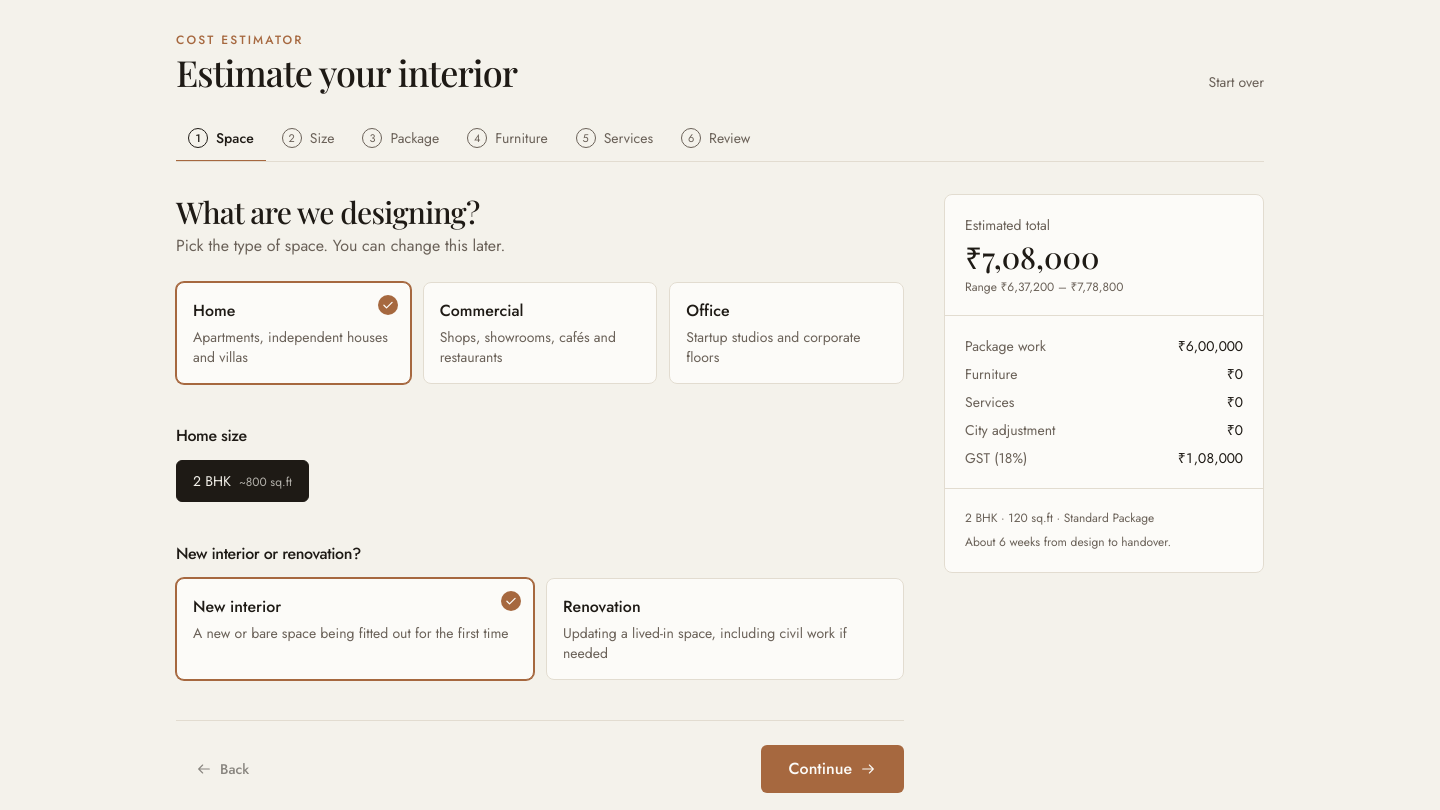
it: estimate wizard page › starts a kitchen-only estimate from an entry link
The width and height of the screenshot is (1440, 810).
Expected: the heading "What are we designing?" is shown, [176, 192, 479, 232]
Click the button "Continue".
click(832, 769)  # box [761, 745, 904, 793]
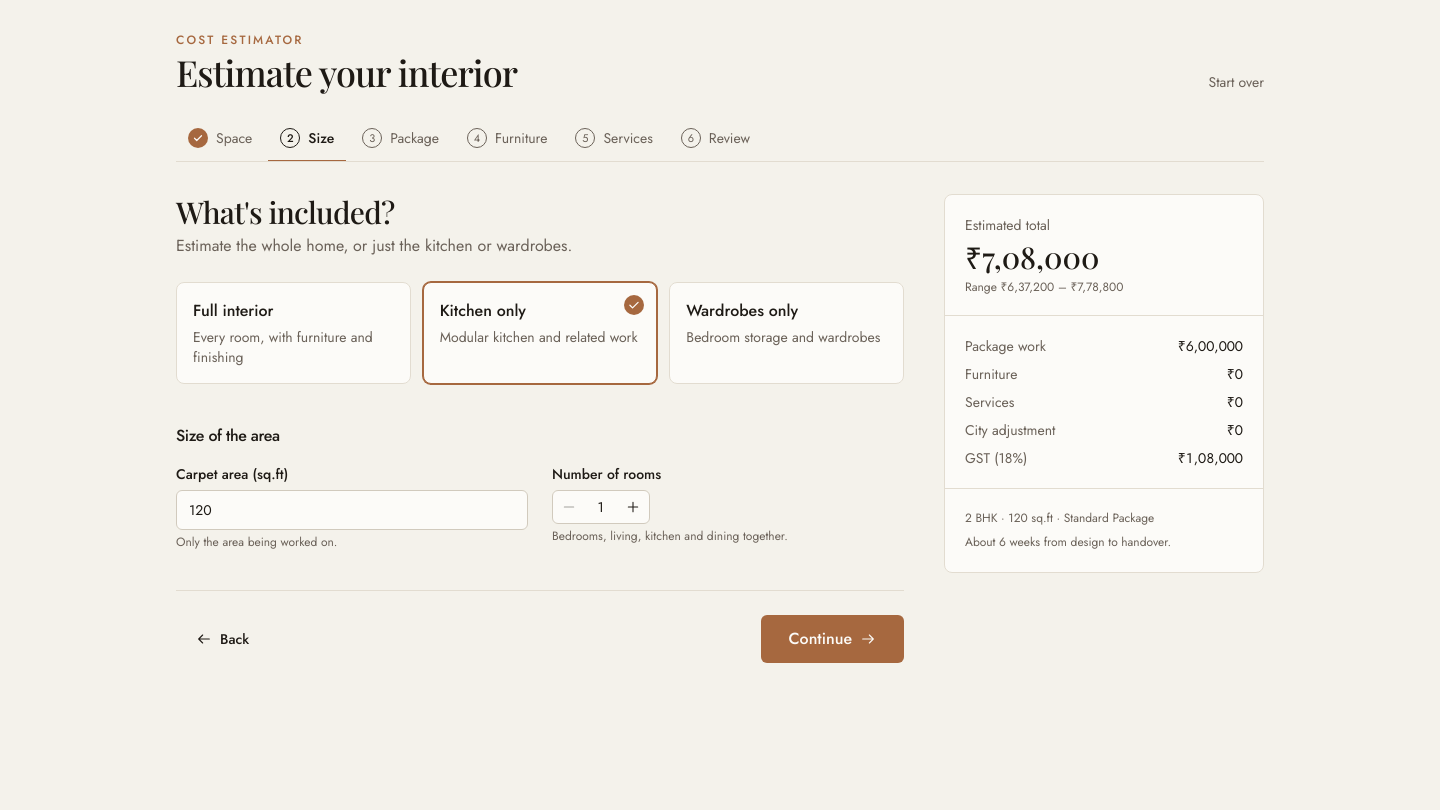
Expected: the number field labelled "Carpet area (sq.ft)" holds "120", [176, 490, 528, 530]
